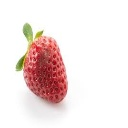strawberry: (17, 22, 69, 103)
